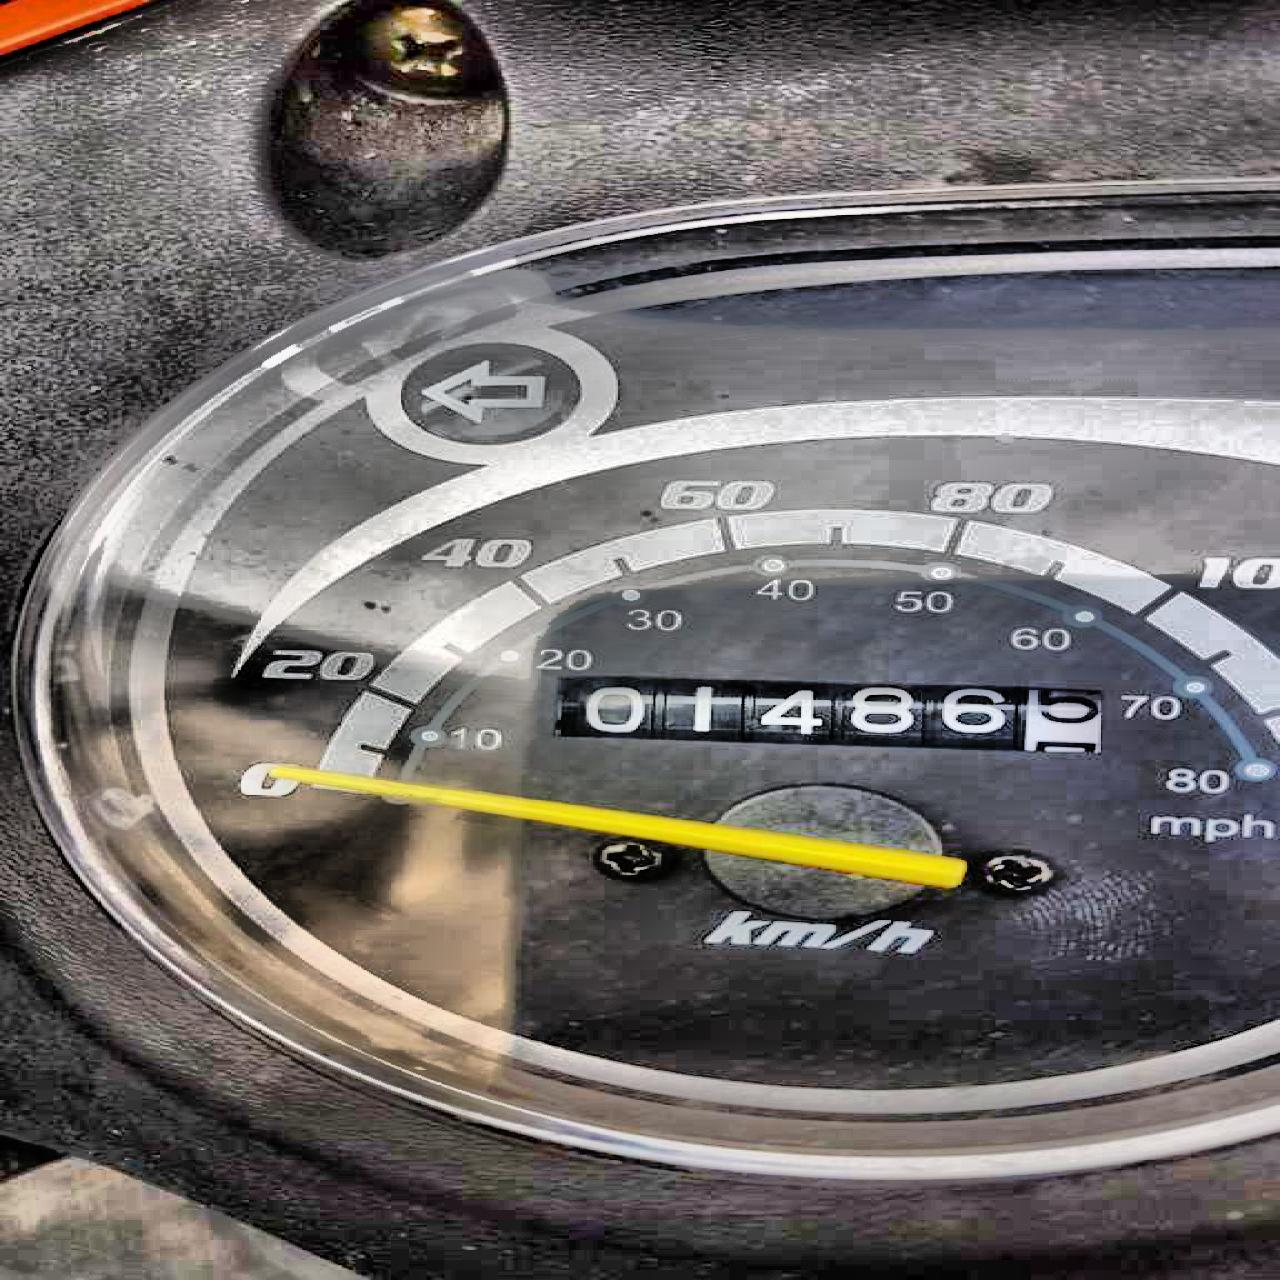0: (580, 683, 645, 733)
1: (678, 682, 719, 734)
4: (749, 685, 824, 735)
6: (938, 685, 1007, 734), (1036, 685, 1101, 724)
8: (844, 683, 915, 733)
odometer: (539, 667, 1114, 762)
